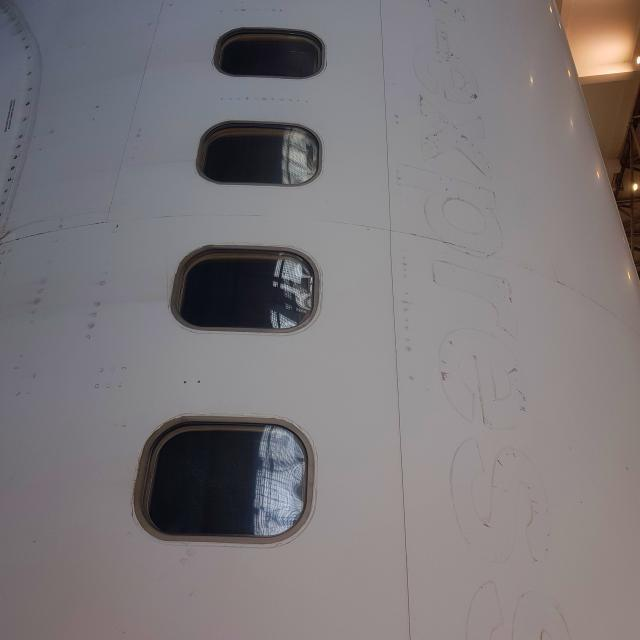crack: (1, 234, 17, 242)
